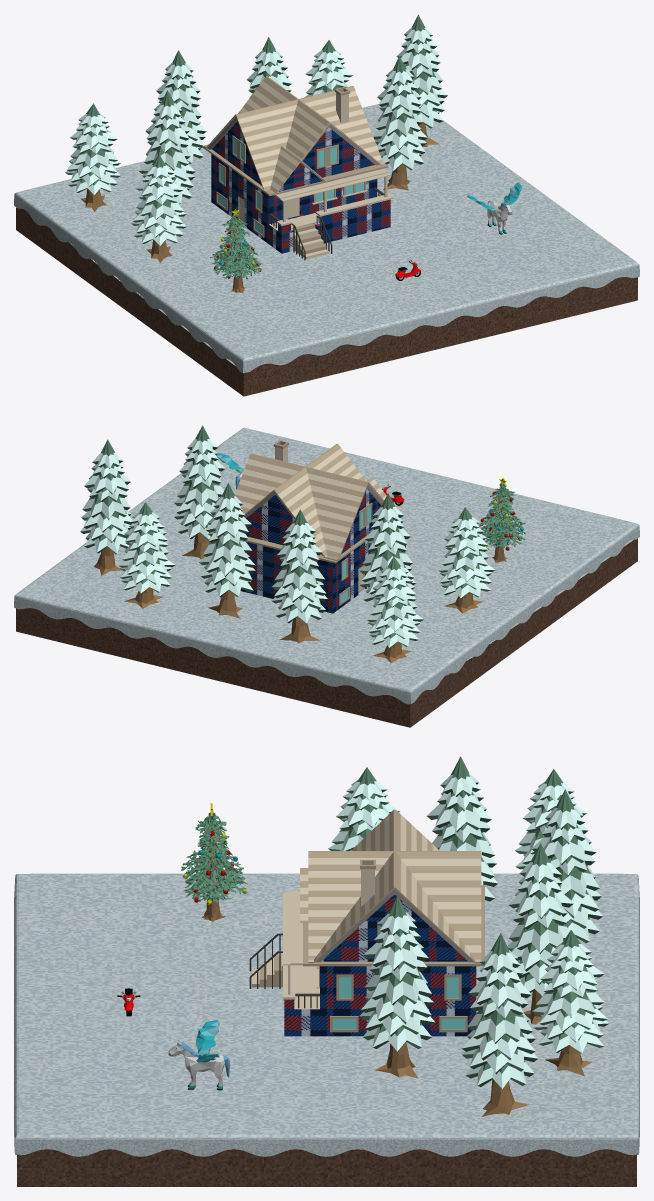
3 views of the same model, one above another, from view 1: azimuth 30°, elevation 25°; view 2: azimuth 150°, elevation 25°; view 3: azimuth 270°, elevation 25° (orthographic). The views are drawn at different scales.
Parts seen in each view (by area): view 1: Cube.003, Cube.171, OBJRANDOM_CHRISTMAS_TREE, ANIMAL_PEGASO; view 2: Cube.003, Cube.171, OBJRANDOM_CHRISTMAS_TREE; view 3: Cube.003, Cube.171, OBJRANDOM_CHRISTMAS_TREE, ANIMAL_PEGASO.
Part boxes in pixels (left/top/right/bottom): Cube.003: left=14, top=14, right=639, bottom=396; Cube.171: left=202, top=76, right=393, bottom=260; OBJRANDOM_CHRISTMAS_TREE: left=210, top=209, right=262, bottom=292; ANIMAL_PEGASO: left=467, top=182, right=521, bottom=234; Cube.003: left=14, top=425, right=639, bottom=727; Cube.171: left=234, top=440, right=405, bottom=613; OBJRANDOM_CHRISTMAS_TREE: left=479, top=478, right=525, bottom=562; Cube.003: left=14, top=756, right=639, bottom=1186; Cube.171: left=249, top=809, right=484, bottom=1036; OBJRANDOM_CHRISTMAS_TREE: left=181, top=803, right=248, bottom=922; ANIMAL_PEGASO: left=168, top=1020, right=230, bottom=1090.
Size of the model in its own units: 4040 by 1670 by 4040.
Materials: 35 (4 with a texture image).
